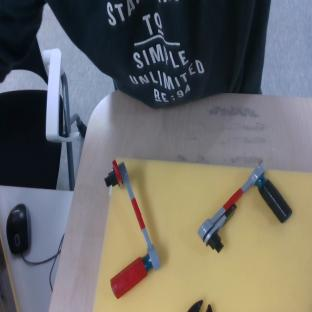non_pass: (192, 165, 300, 273)
pass: (73, 157, 167, 299)
